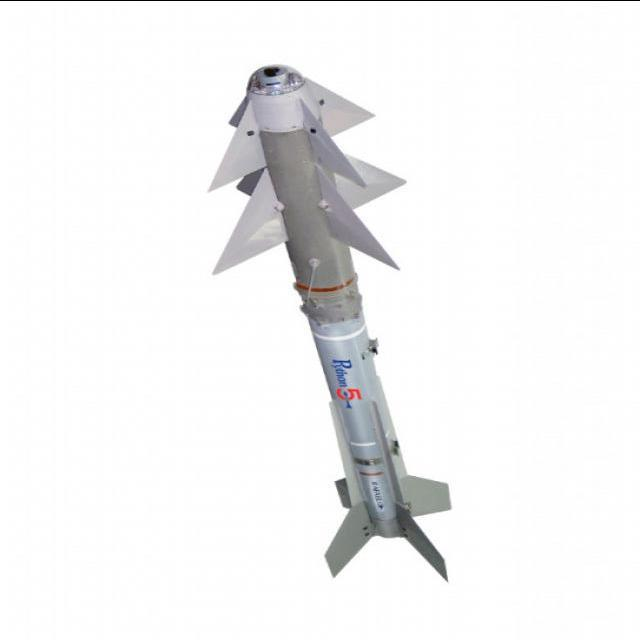missile: (190, 56, 476, 606)
